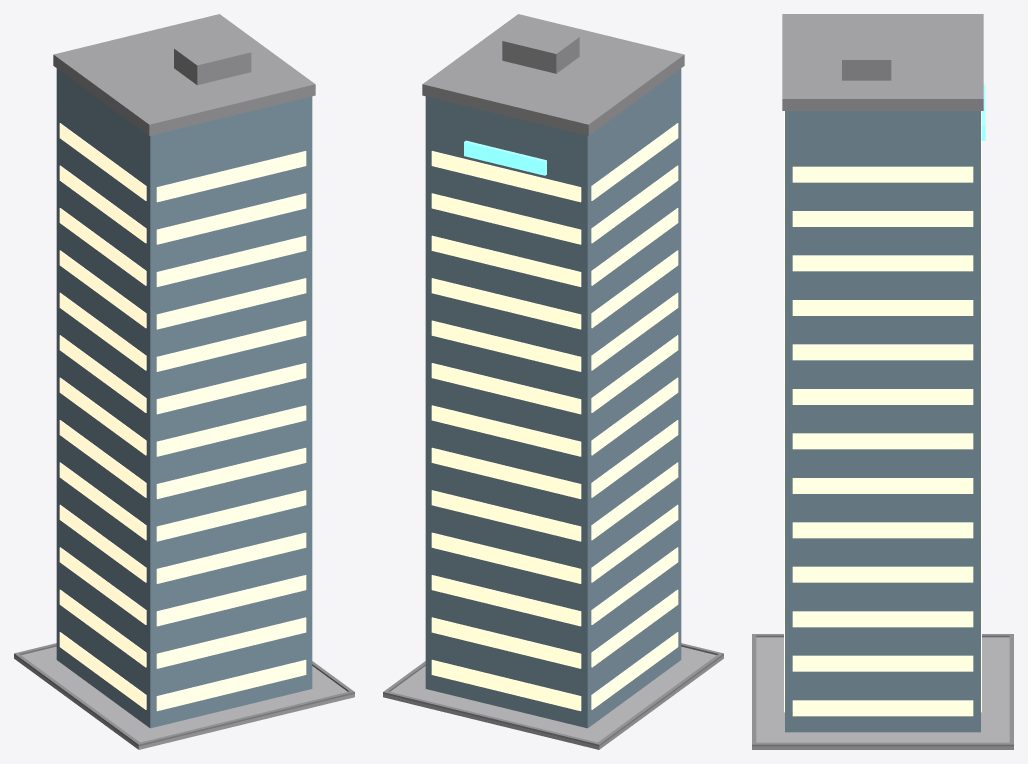
Rendered from bt-commercial-tower-1a.glb.
3 views of the same model, side by side, from view 1: azimuth 30°, elevation 25°; view 2: azimuth 150°, elevation 25°; view 3: azimuth 270°, elevation 25° (orthographic). The views are drawn at different scales.
Parts seen in each view (by area): view 1: body, parapet, skirt_slab, roofbox, win_s_8, win_s_2, win_s_3, win_s_0, win_s_4, win_s_5, win_s_9, win_s_1 (+20 smaller); view 2: body, parapet, skirt_slab, roofbox, win_n_8, win_n_2, win_n_3, win_n_0, win_n_4, win_n_5, win_n_9, win_n_1 (+21 smaller); view 3: body, parapet, skirt_slab, win_e_0, win_e_1, win_e_2, win_e_3, win_e_4, win_e_6, win_e_8, win_e_10, win_e_12 (+8 smaller).
Boxes of the visible parts, x1=… form: body: x1=56, y1=68, x2=312, y2=728; parapet: x1=53, y1=14, x2=315, y2=135; skirt_slab: x1=14, y1=646, x2=354, y2=749; roofbox: x1=174, y1=35, x2=251, y2=85; win_s_8: x1=156, y1=320, x2=306, y2=371; win_s_2: x1=156, y1=575, x2=306, y2=626; win_s_3: x1=156, y1=532, x2=306, y2=583; win_s_0: x1=156, y1=659, x2=306, y2=711; win_s_4: x1=156, y1=490, x2=306, y2=541; win_s_5: x1=156, y1=447, x2=306, y2=499; win_s_9: x1=156, y1=278, x2=306, y2=329; win_s_1: x1=156, y1=617, x2=306, y2=668; body: x1=425, y1=68, x2=681, y2=728; parapet: x1=422, y1=14, x2=684, y2=135; skirt_slab: x1=383, y1=646, x2=723, y2=749; roofbox: x1=502, y1=24, x2=579, y2=73; win_n_8: x1=431, y1=320, x2=581, y2=371; win_n_2: x1=431, y1=575, x2=581, y2=626; win_n_3: x1=431, y1=532, x2=581, y2=583; win_n_0: x1=431, y1=659, x2=581, y2=711; win_n_4: x1=431, y1=490, x2=581, y2=541; win_n_5: x1=431, y1=447, x2=581, y2=499; win_n_9: x1=431, y1=278, x2=581, y2=329; win_n_1: x1=431, y1=617, x2=581, y2=668; body: x1=785, y1=111, x2=980, y2=732; parapet: x1=782, y1=14, x2=983, y2=110; skirt_slab: x1=752, y1=637, x2=1013, y2=749; win_e_0: x1=792, y1=700, x2=973, y2=716; win_e_1: x1=792, y1=655, x2=973, y2=671; win_e_2: x1=792, y1=611, x2=973, y2=627; win_e_3: x1=792, y1=566, x2=973, y2=582; win_e_4: x1=792, y1=522, x2=973, y2=538; win_e_6: x1=792, y1=433, x2=973, y2=449; win_e_8: x1=792, y1=344, x2=973, y2=360; win_e_10: x1=792, y1=255, x2=973, y2=271; win_e_12: x1=792, y1=166, x2=973, y2=182.
Bounding box in the file's own units: 16 × 44.45 × 16.
